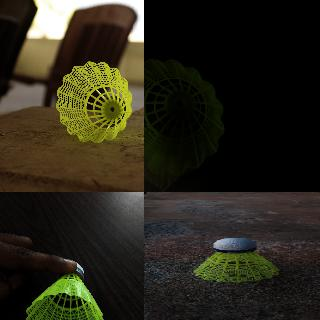shuttlecock: (144, 59, 225, 176), (55, 61, 131, 142), (25, 264, 104, 319), (194, 237, 281, 281)
